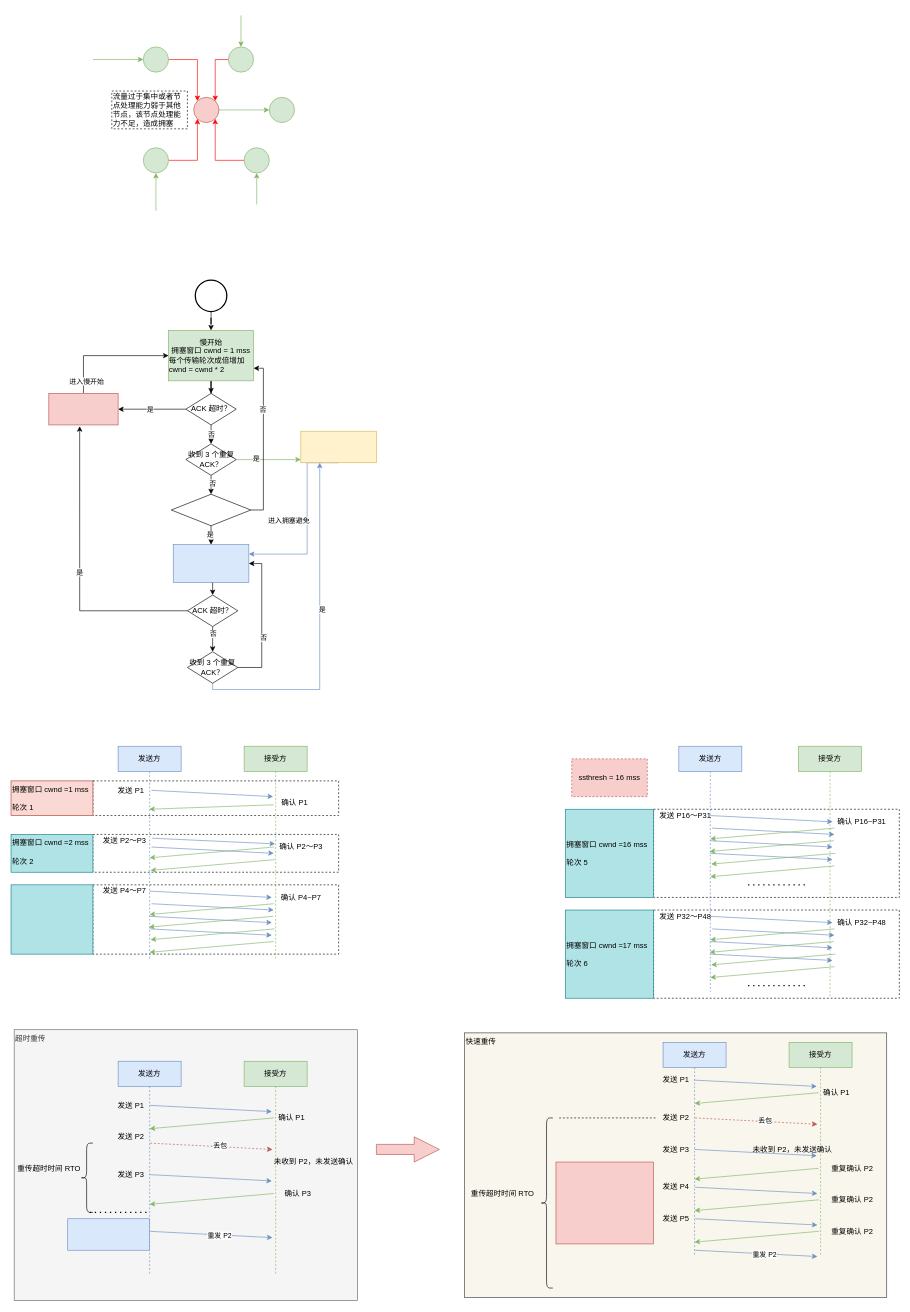
Image size: 910x1312. Some labels were removed from this diagram. The centre of each missing label's shape, as x and y in pixels:
"cwnd >= ssthresh ?" goes at pixel 211 510.
"ssthresh = cwnd / 2 cwnd = 1 mss" goes at pixel 83 409.
"快恢复处理 ssthresh = cwnd / 2 cwnd = ssthresh" goes at pixel 338 447.
"拥塞窗口 cwnd =4 mss 轮次 3" goes at pixel 51 919.
"拥塞避免 每个传输轮次拥塞窗口线性增大 cwnd = cwnd + 1 mss" goes at pixel 211 563.
"收到连续 3 个对 P2 的重复确认，发送方意识到丢了 P2，立即重发 P2" goes at pixel 604 1202.
"直到 P2 的确认 ACK 超时，发送方才意识到丢了P2，重发 P2" goes at pixel 108 1234.
"连接建立" goes at pixel 210 295.
